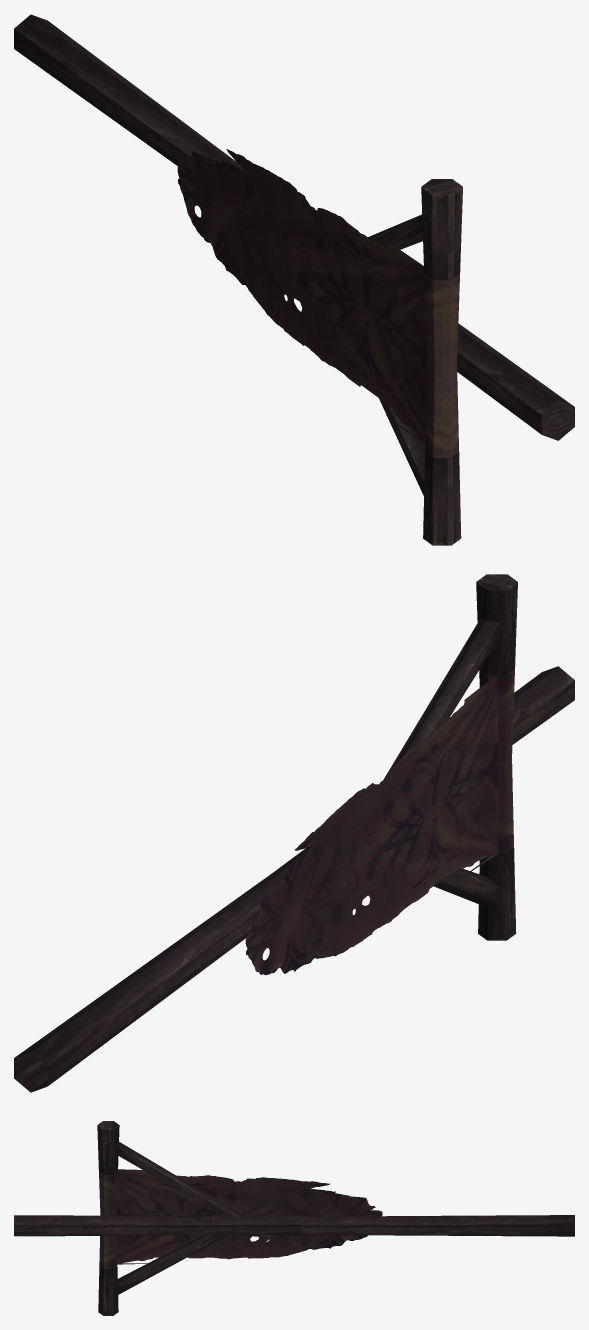
Rendered from huodong_fuben_653_qizhi.obj.
3 views of the same model, one above another, from view 1: azimuth 30°, elevation 25°; view 2: azimuth 150°, elevation 25°; view 3: azimuth 270°, elevation 25° (orthographic). The views are drawn at different scales.
Parts seen in each view (by area): view 1: huodong_fuben_653_qizhi; view 2: huodong_fuben_653_qizhi; view 3: huodong_fuben_653_qizhi.
Boxes of the visible parts, box(x1,y1,x2,y2) form: huodong_fuben_653_qizhi: box(14, 14, 574, 545); huodong_fuben_653_qizhi: box(14, 574, 574, 1092); huodong_fuben_653_qizhi: box(14, 1121, 574, 1315).
Size of the model in its own units: 35.59 by 199 by 542.
1 material, 1 textured.
